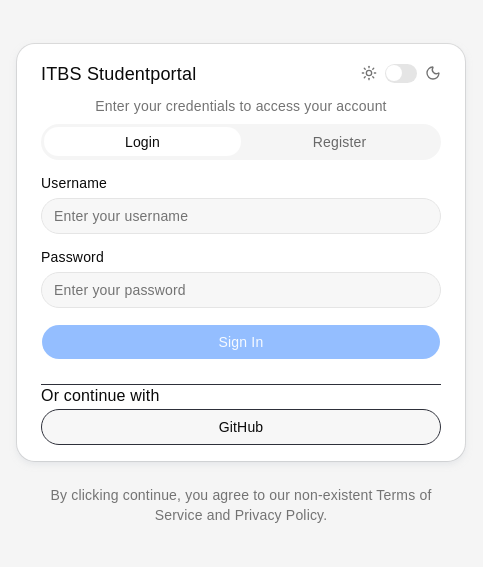
Test: LoginPage › displays fallback error message for network errors
The image size is (483, 567).
Type "testuser" into the field labelled "Username" at (241,216), box [41, 198, 441, 234]
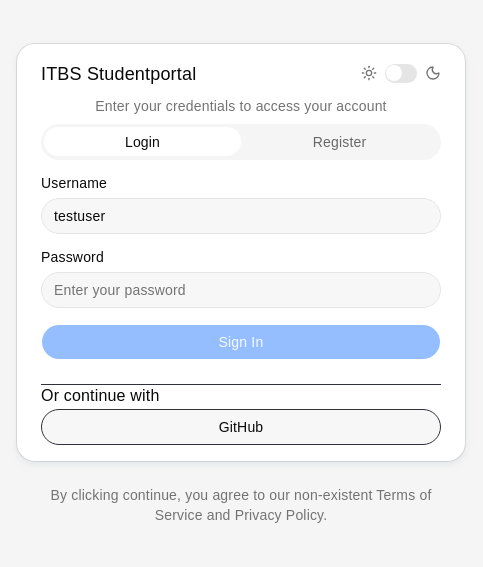
Type "password123" into the password field labelled "Password" at (241,290), box [41, 272, 441, 308]
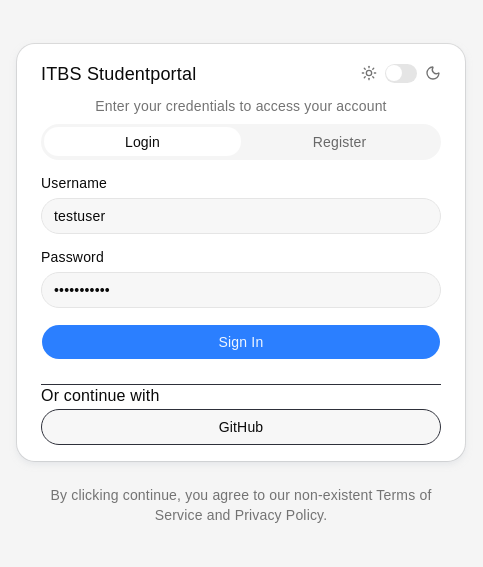
Click the submit button at (241,342), box [41, 324, 441, 360]
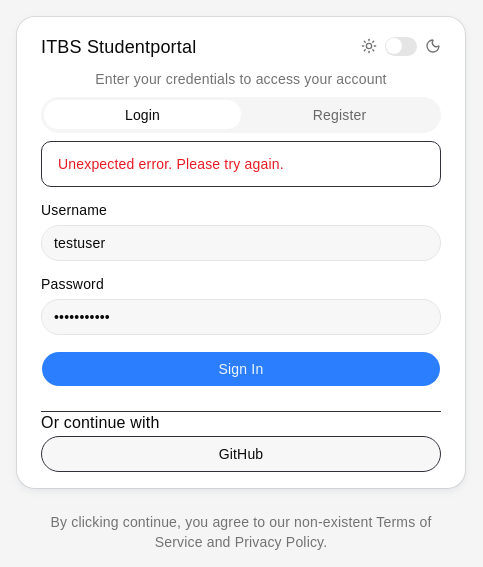
Result: the text "Unexpected error. Please try again." is shown at [58, 156, 284, 172]
